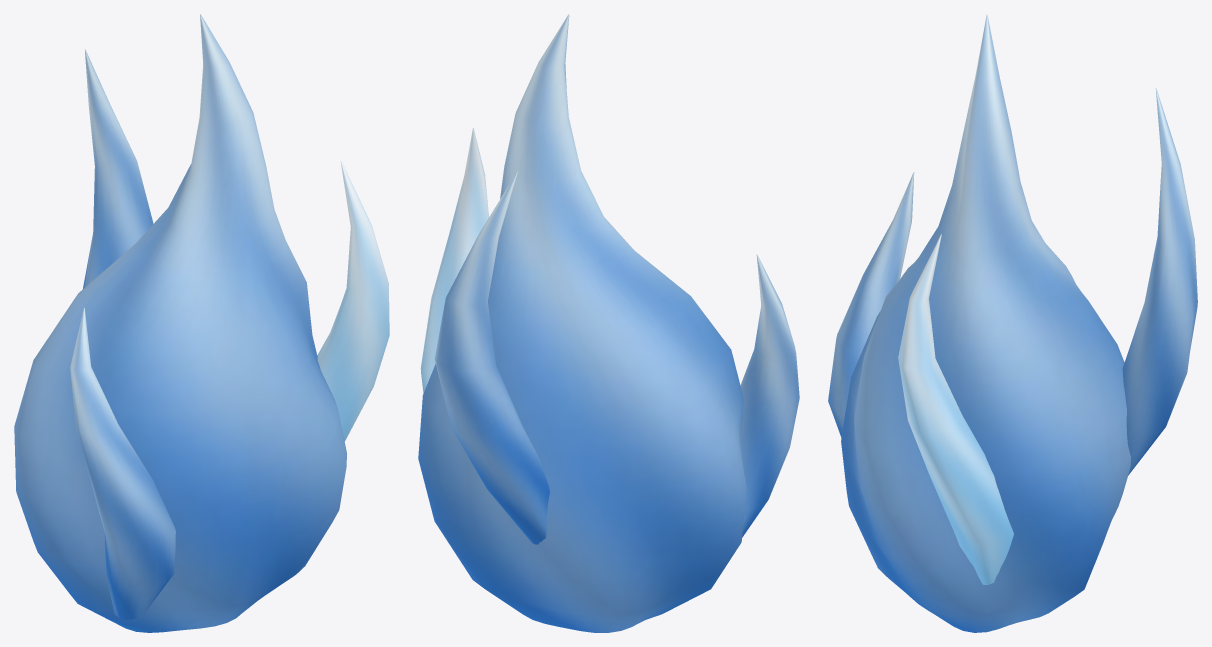
Rendered from nyanisyarud-oni-guide-normal.glb.
3 renders of one model, left to right at view 1: azimuth 30°, elevation 25°; view 2: azimuth 150°, elevation 25°; view 3: azimuth 270°, elevation 25°, orthographic.
Parts seen in each view (by area): view 1: onibi_guide_normal_blue_white; view 2: onibi_guide_normal_blue_white; view 3: onibi_guide_normal_blue_white.
Boxes of the visible parts, x1,y1,x2,y2 form: onibi_guide_normal_blue_white: [14, 14, 389, 632]; onibi_guide_normal_blue_white: [418, 14, 799, 632]; onibi_guide_normal_blue_white: [828, 14, 1197, 632].
Size of the model in its own units: 0.9849 by 1.72 by 0.9339.
Materials: 3 (3 with a texture image).
